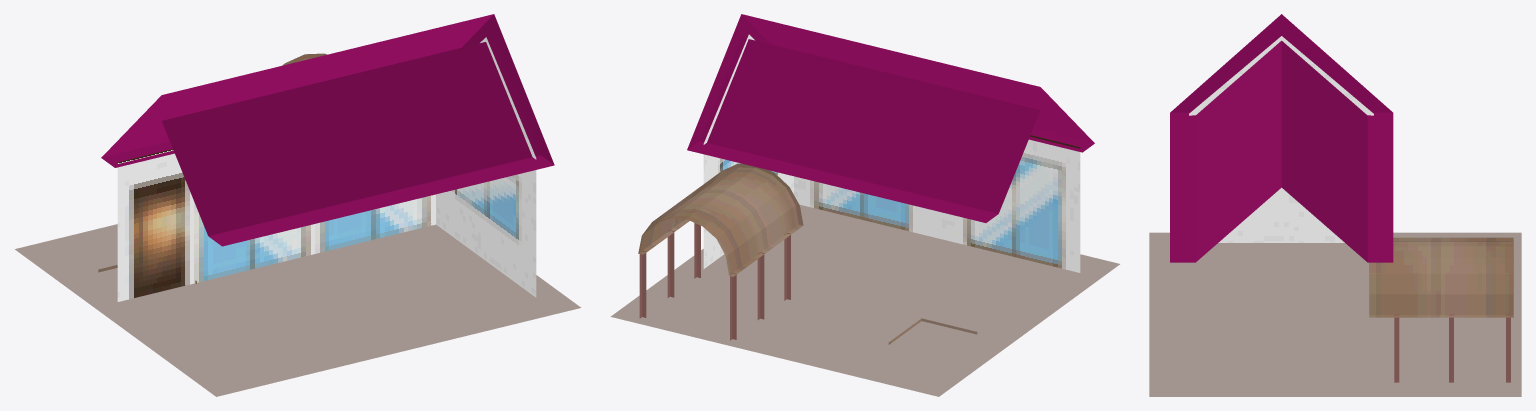
File: ps2_save-icons_roommateasami.glb
The picture shows the model from 3 angles, left to right: view 1: azimuth 30°, elevation 25°; view 2: azimuth 150°, elevation 25°; view 3: azimuth 270°, elevation 25°; orthographic projection. The views are drawn at different scales.
Visible parts, largest first — view 1: asami.ico; view 2: asami.ico; view 3: asami.ico.
Boxes of the visible parts, <box> form: asami.ico: <box>15,14,580,396</box>; asami.ico: <box>610,14,1119,396</box>; asami.ico: <box>1149,14,1521,396</box>.
Size of the model in its own units: 3.88 by 2.49 by 3.71.
1 material, 1 textured.
